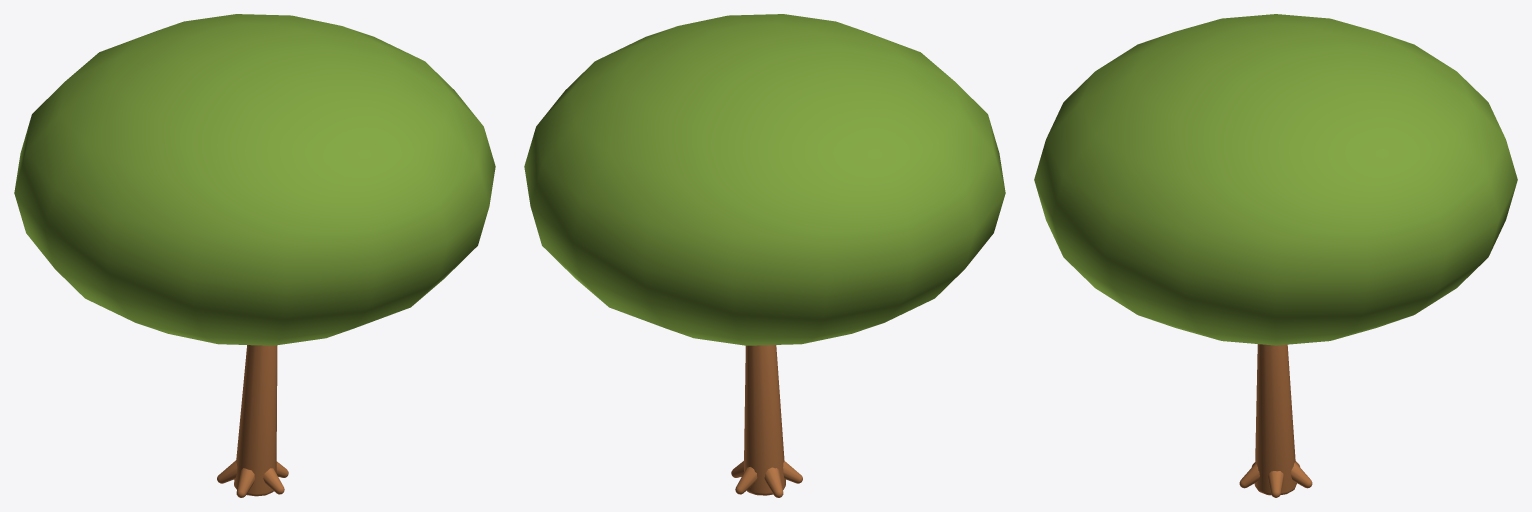
File: prop.street-tree-blossom.glb
The picture shows the model from 3 angles, left to right: view 1: azimuth 30°, elevation 25°; view 2: azimuth 150°, elevation 25°; view 3: azimuth 270°, elevation 25°; orthographic projection.
Parts seen in each view (by area): view 1: crownProxy, body, object 1; view 2: crownProxy, body, object 1; view 3: crownProxy, body, object 1.
Part boxes in pixels (bbox=[...]): crownProxy: bbox=[14, 14, 495, 345]; body: bbox=[234, 345, 277, 496]; object 1: bbox=[217, 460, 288, 497]; crownProxy: bbox=[524, 14, 1005, 345]; body: bbox=[743, 345, 785, 495]; object 1: bbox=[731, 461, 802, 497]; crownProxy: bbox=[1034, 14, 1517, 345]; body: bbox=[1254, 344, 1296, 495]; object 1: bbox=[1239, 461, 1312, 497].
Bounding box in the file's own units: 5.2 × 5.21 × 5.2.
